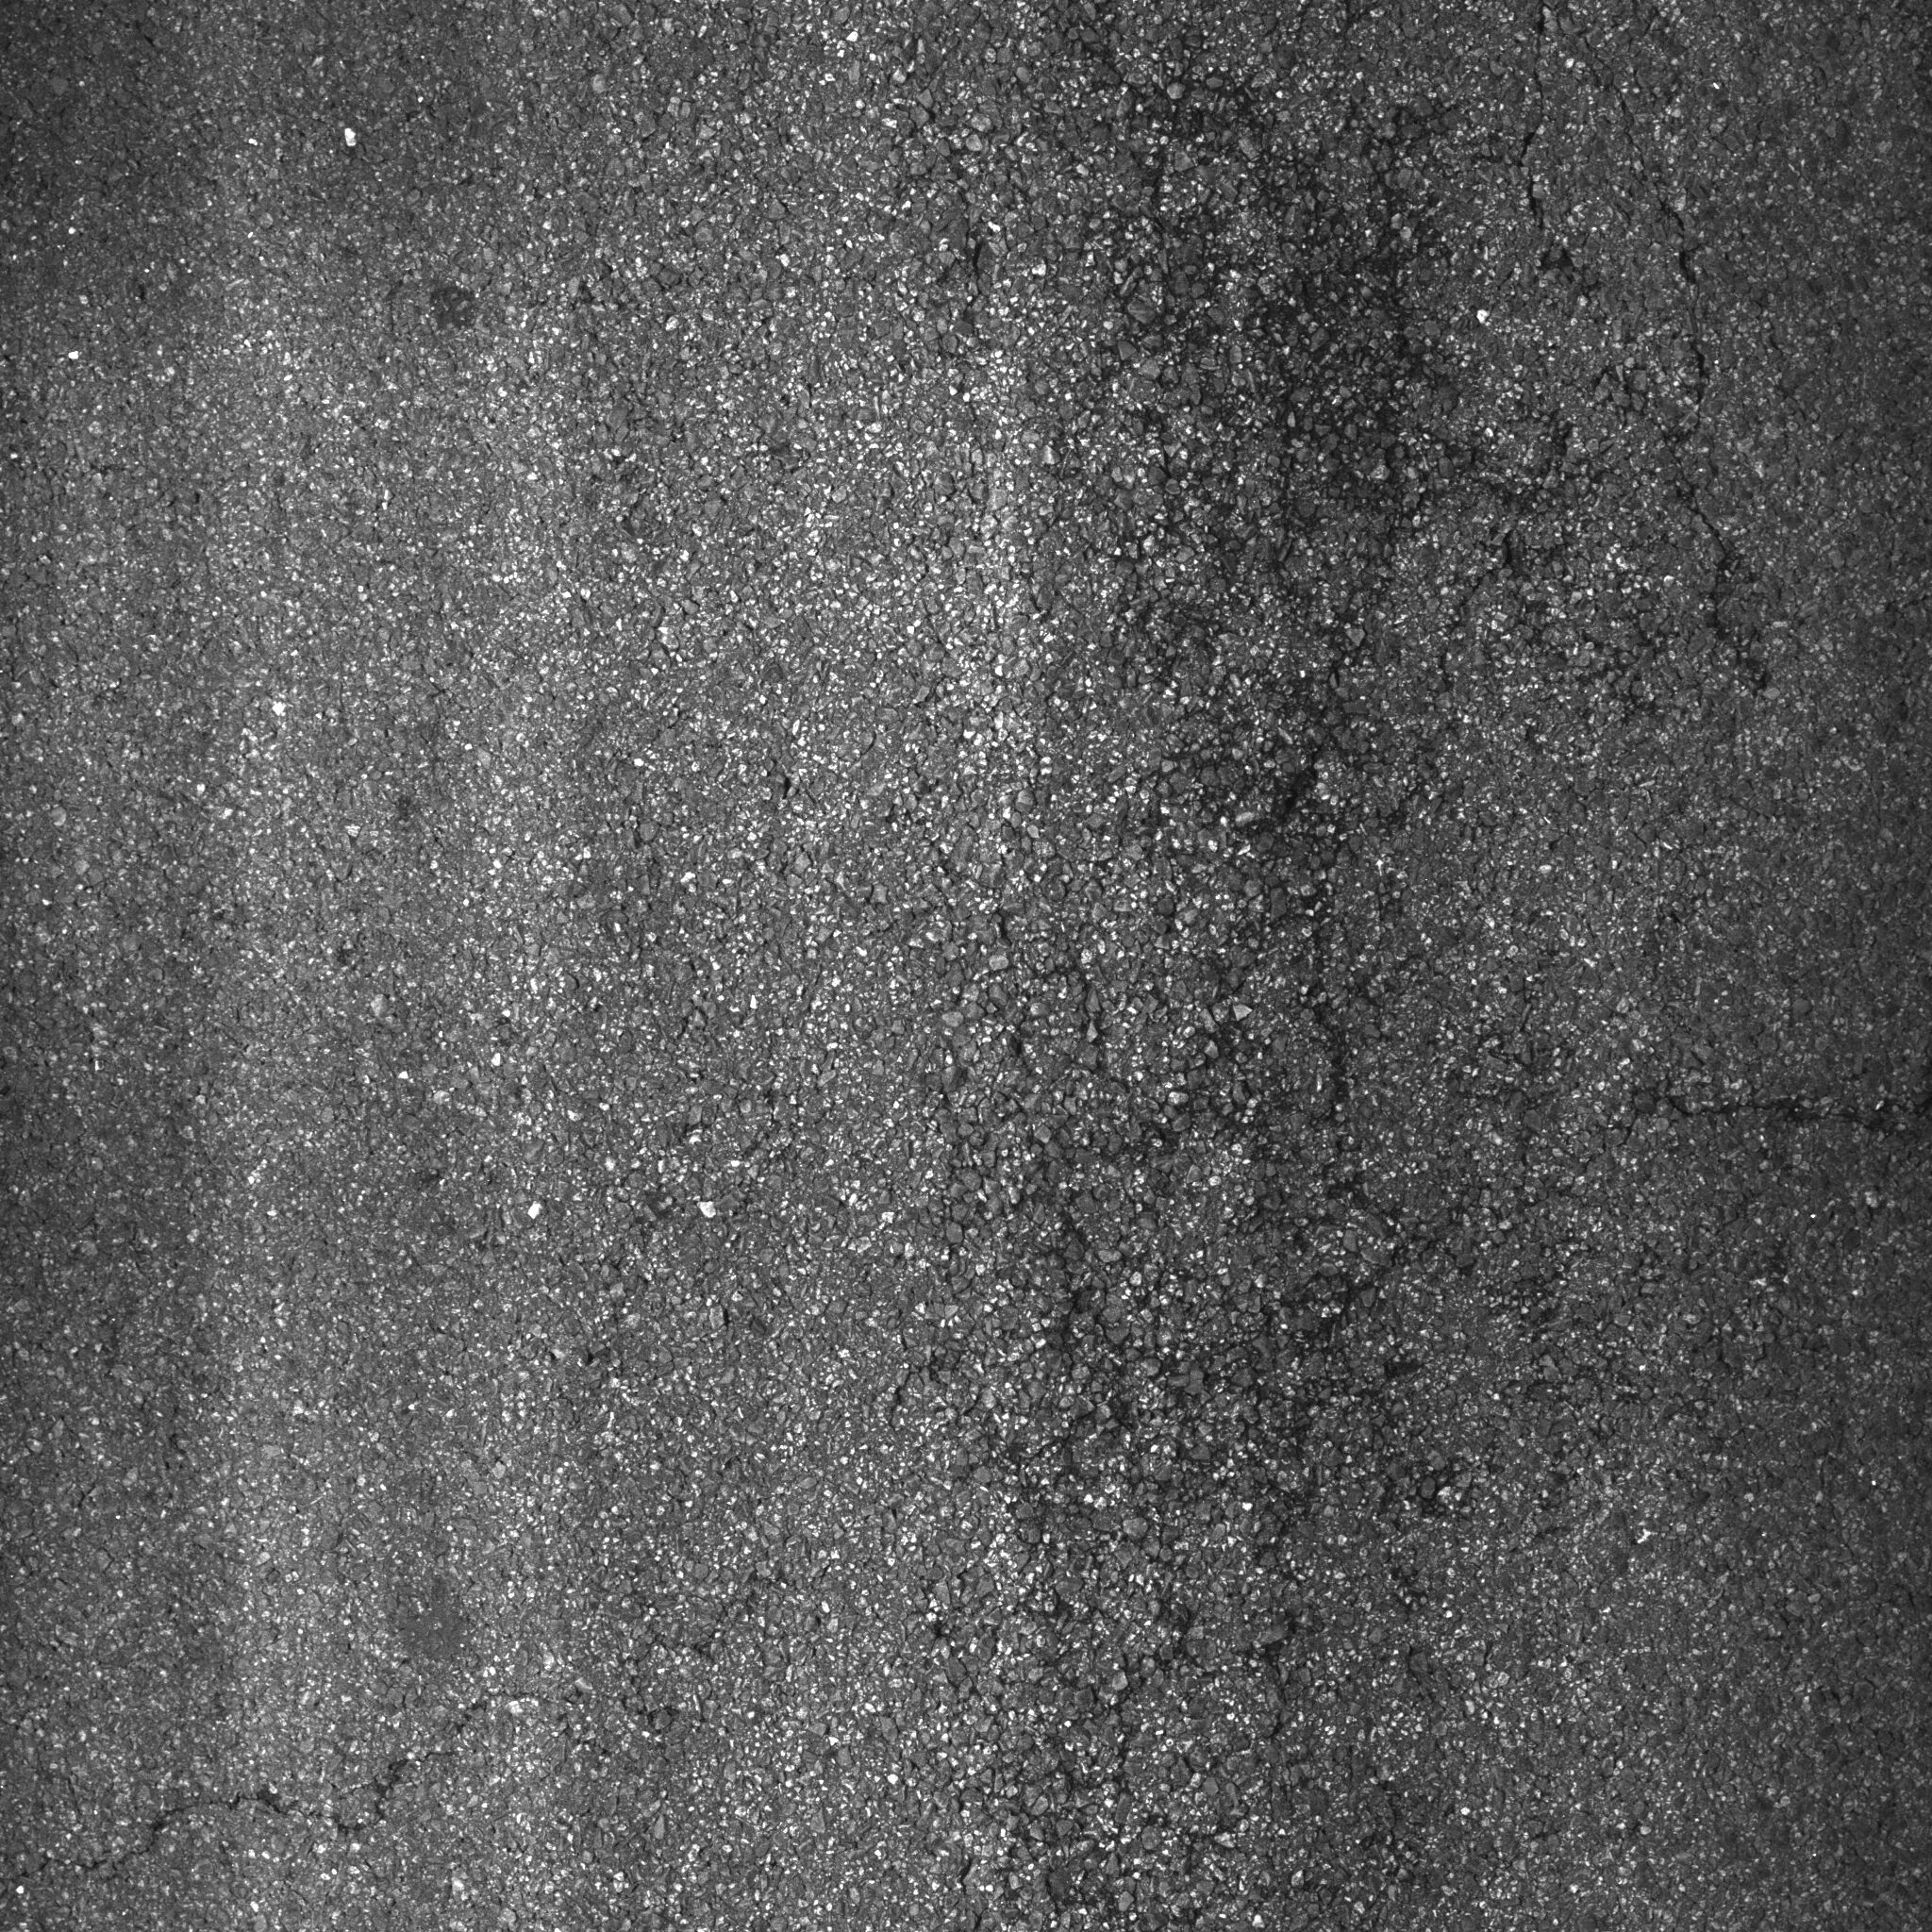transeverse: (30, 1417, 1063, 1897), (1483, 2, 1810, 729), (1629, 1058, 1932, 1169)
